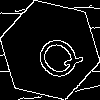Q: (25, 25, 86, 87)
